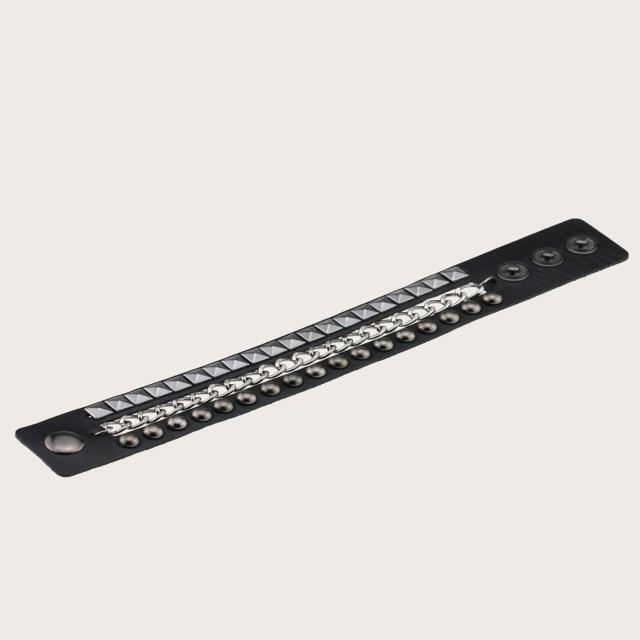bracelet: (16, 178, 640, 558)
